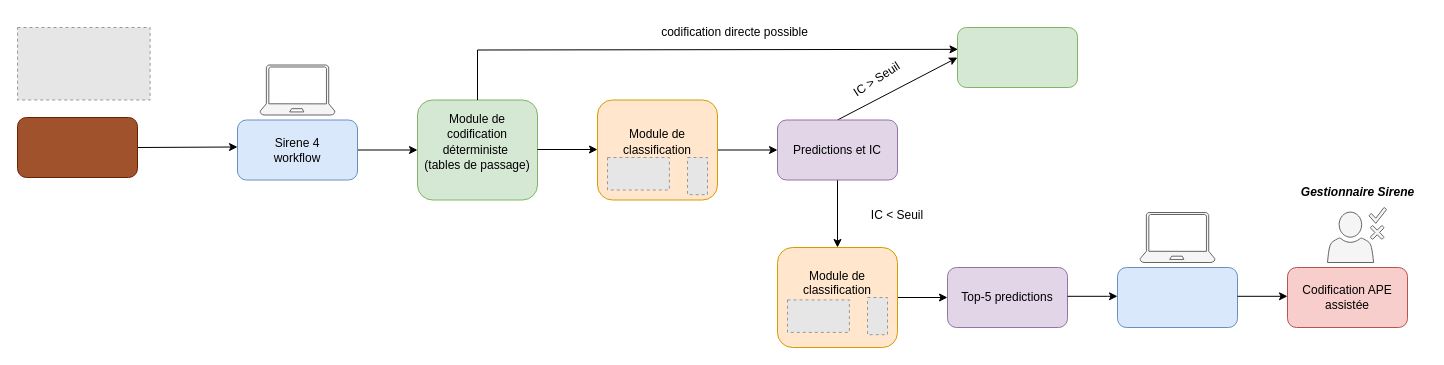
Some shapes in this 1444 by 365 pixel diagram are drawn without their labels. Grey dashed boxes stand in for pictures. The shapes that lost their labels are listed below. From the top down, each one's centre as x and y in pixels, then its label:
At [1017,57]: "Codification automatique".
At [77,147]: "Guichet unique".
At [1177,297]: "Sirene 4 IHM".
